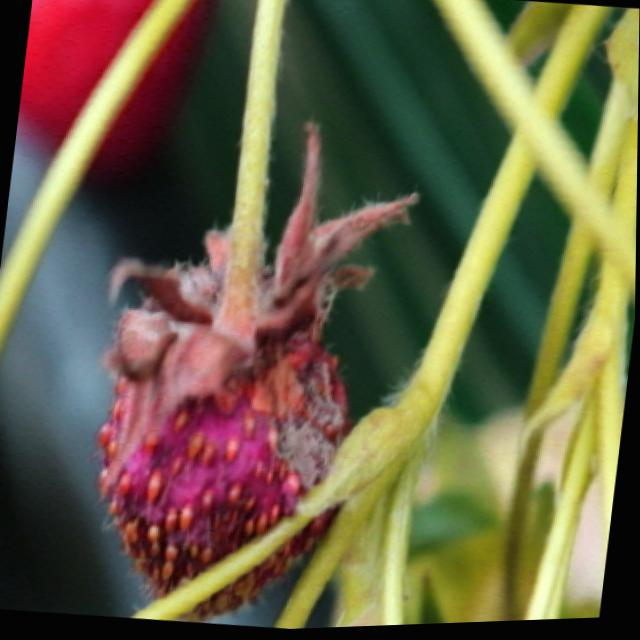Gray Mold: (98, 121, 419, 625)
